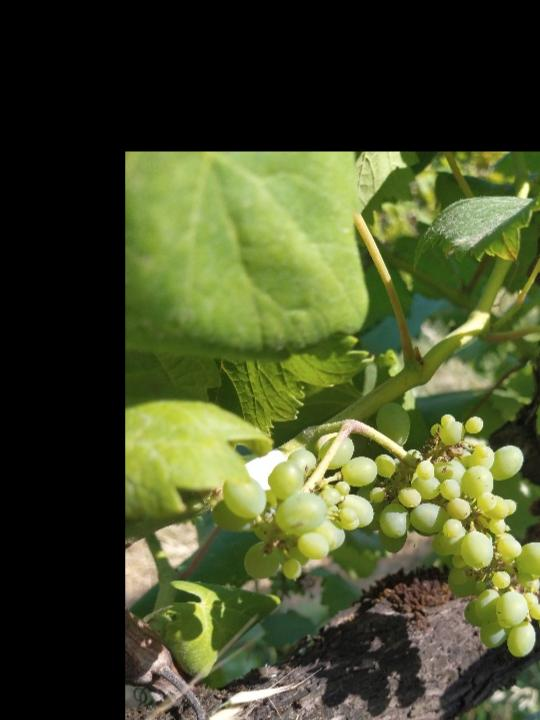grape: (207, 400, 540, 660)
